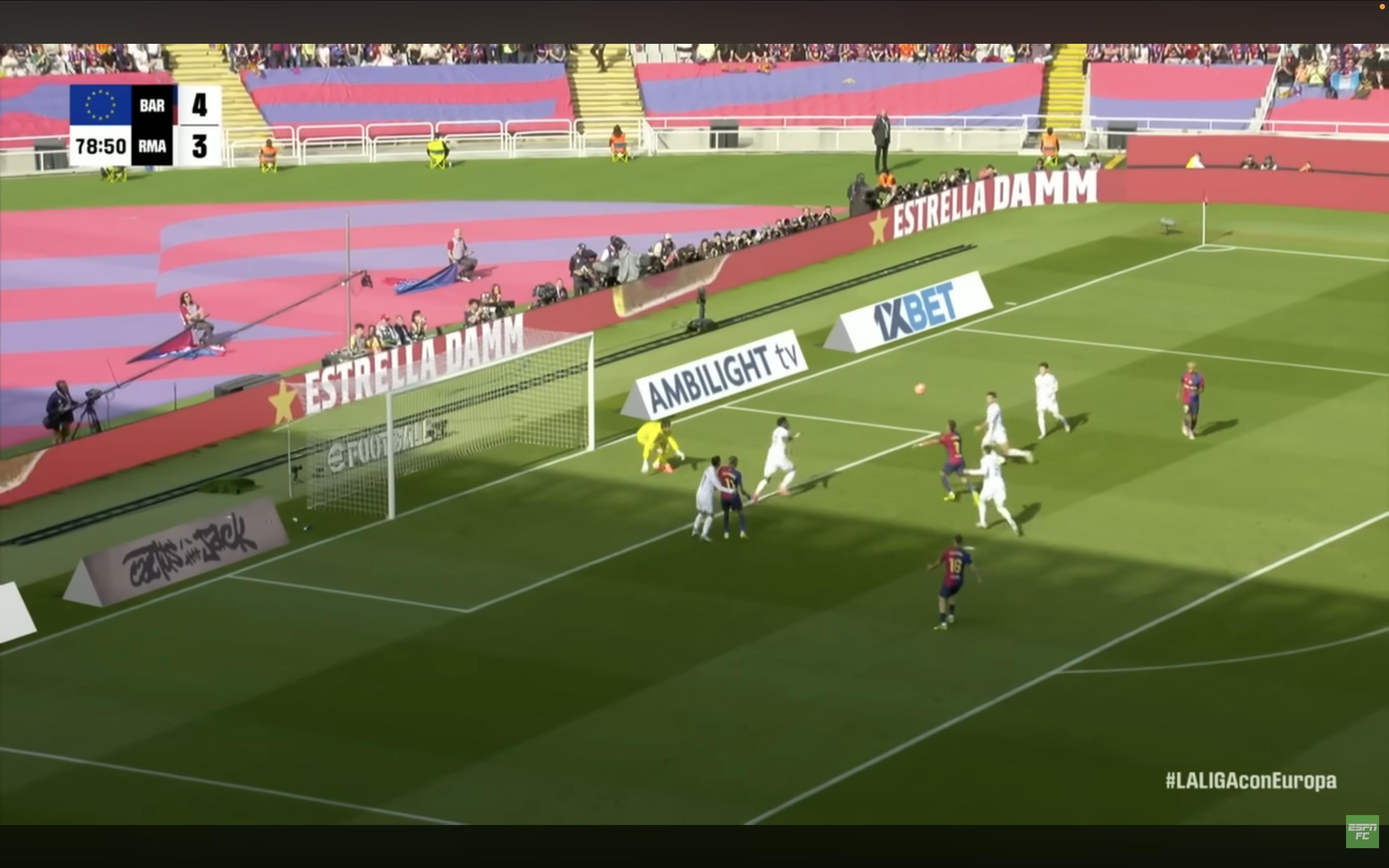ball: (914, 382, 927, 396)
goalkeeper: (637, 420, 684, 473)
player: (917, 420, 979, 504), (928, 535, 981, 630), (966, 446, 1021, 534), (976, 392, 1034, 463), (753, 417, 799, 503), (692, 456, 733, 541), (1034, 363, 1071, 438), (718, 456, 750, 539), (1178, 362, 1205, 439)
